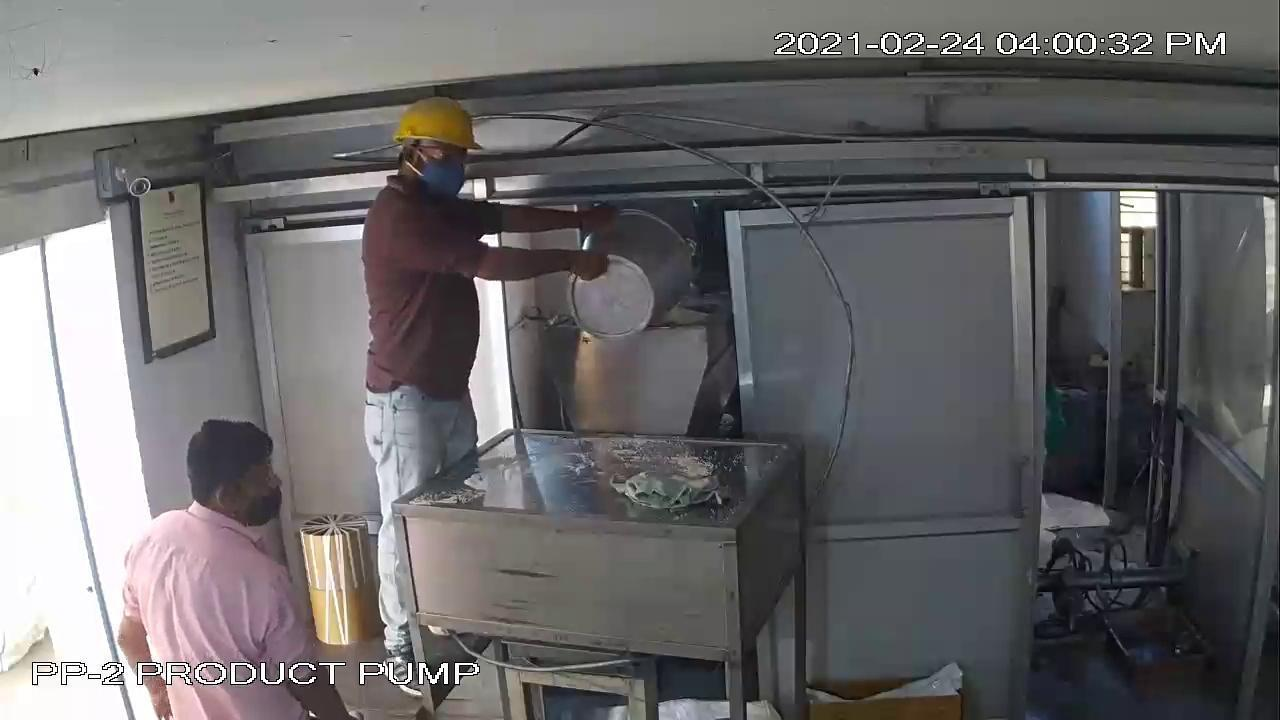helmet: (386, 89, 478, 154)
